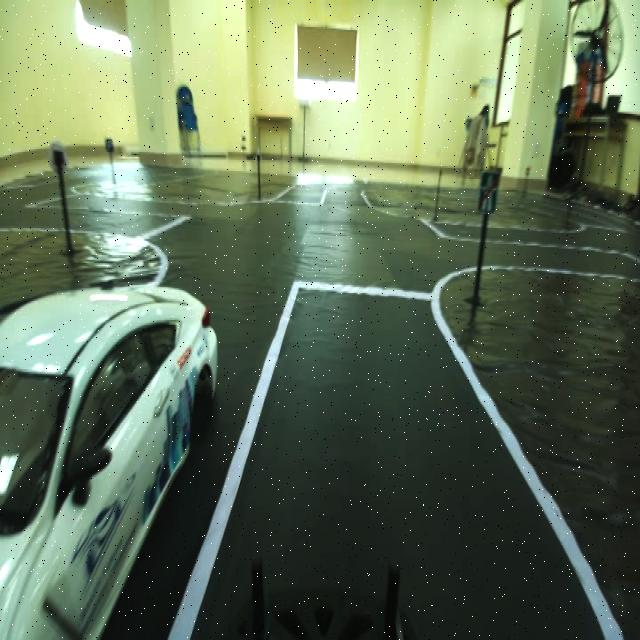car: (7, 240, 217, 622)
highway_exit: (477, 150, 504, 225)
